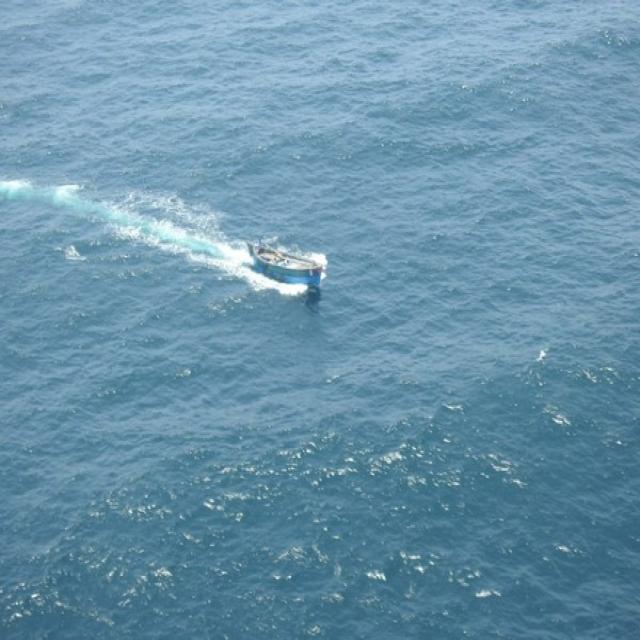Corvette-Kora-Class-IND: (243, 228, 325, 289)
